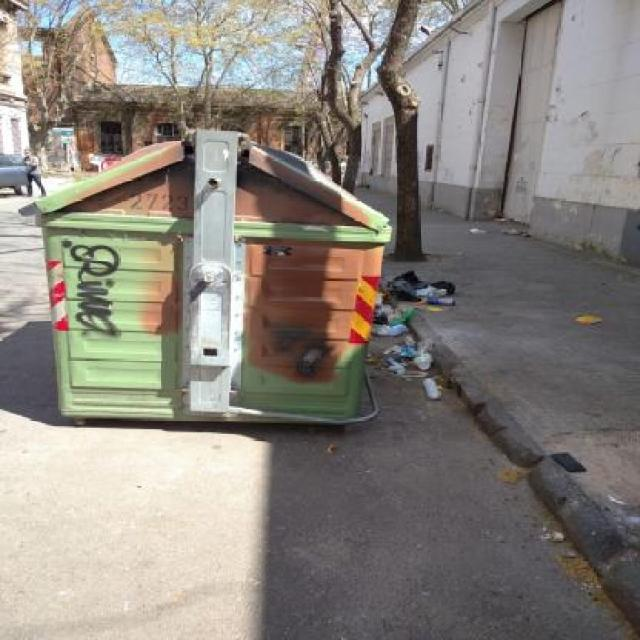garbage: (376, 265, 489, 420), (548, 302, 626, 343), (465, 216, 542, 245)
